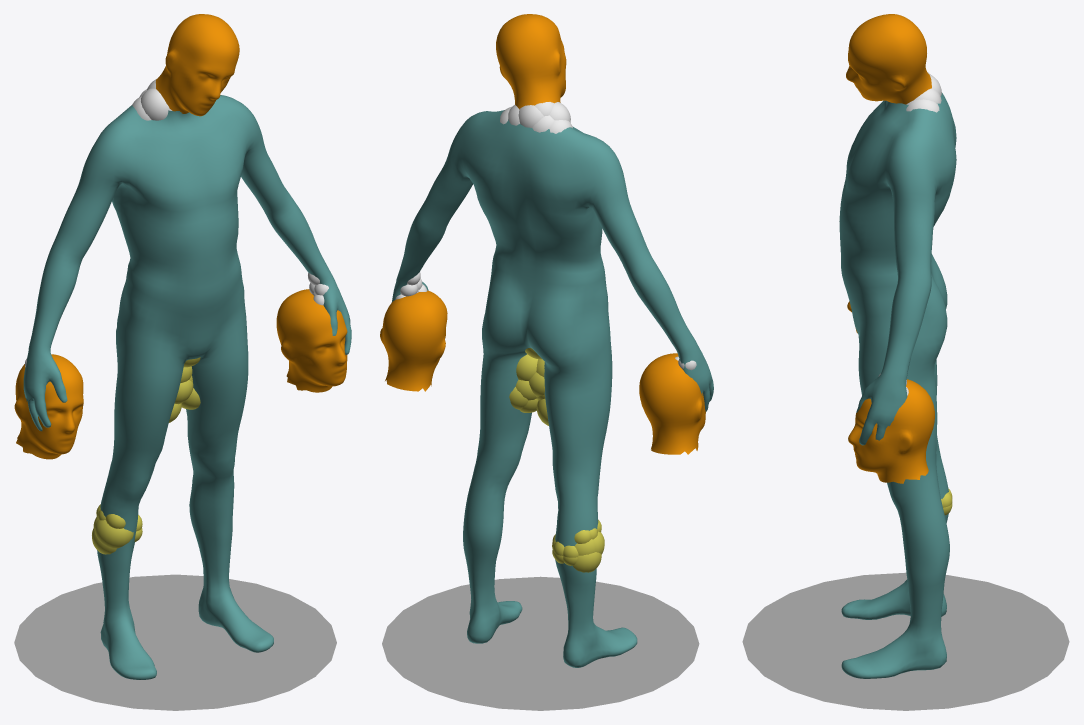
The model's file is hooman.fbx.
3 renders of one model, left to right at view 1: azimuth 30°, elevation 25°; view 2: azimuth 150°, elevation 25°; view 3: azimuth 270°, elevation 25°, orthographic. The views are drawn at different scales.
Visible parts, largest first — view 1: pasted__pasted__pasted__polySurface2; view 2: pasted__pasted__pasted__polySurface2; view 3: pasted__pasted__pasted__polySurface2.
Part boxes in pixels (x1=…): pasted__pasted__pasted__polySurface2: x1=14, y1=14, x2=351, y2=710; pasted__pasted__pasted__polySurface2: x1=380, y1=14, x2=713, y2=710; pasted__pasted__pasted__polySurface2: x1=742, y1=14, x2=1069, y2=710.
Size of the model in its own units: 18.49 by 34.43 by 16.
